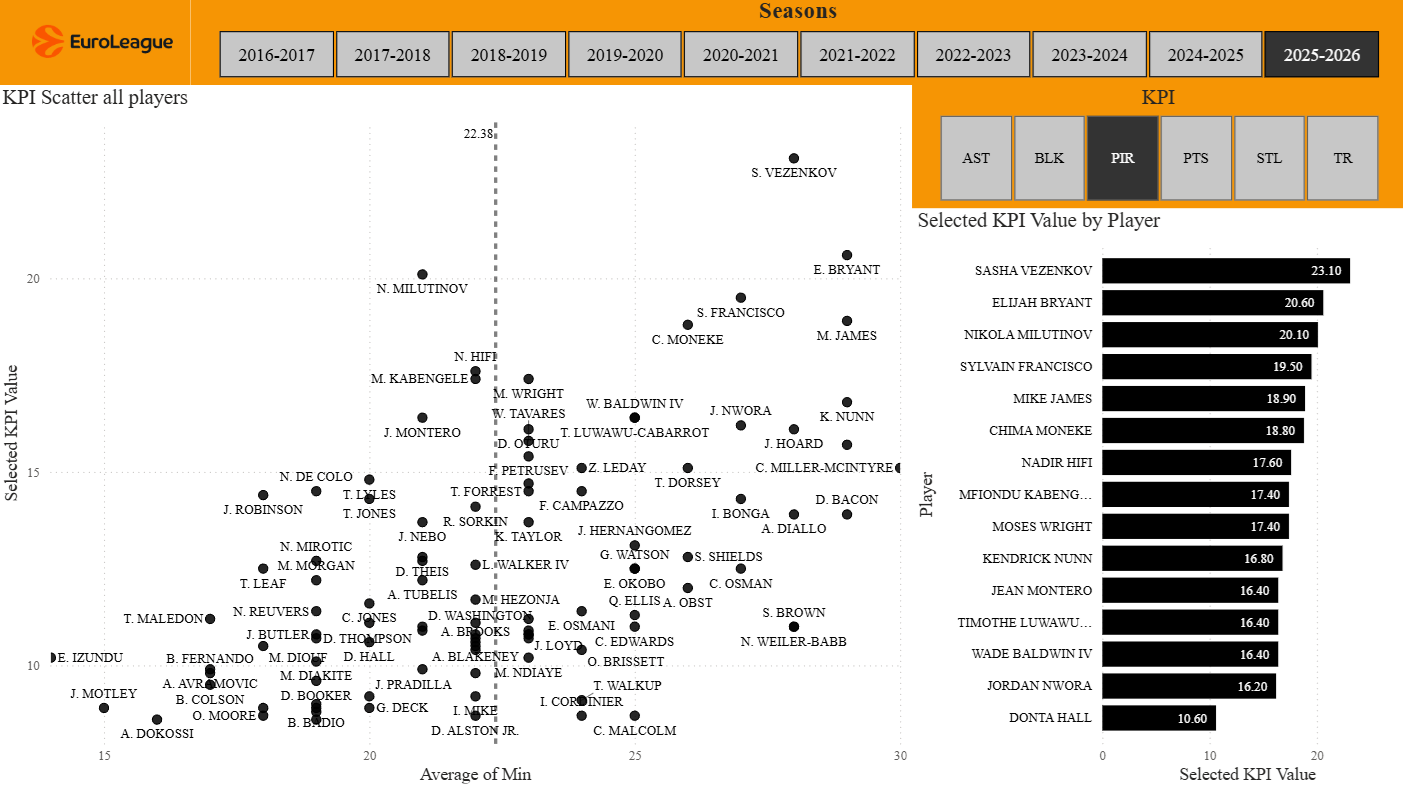

What the dashboard file says about the page in this screenshot:
{"tool":"powerbi","page":{"name":"Players stats/League context","canvas":[1280,720],"ordinal":4},"visuals":[{"type":"scatterChart","title":"KPI Scatter all players","fields":{"X":["Append_stats_traditional.Min"],"Category":["Append_stats_traditional.Player"],"Y":["Measures (2).Selected KPI Value"]},"box":[0,80,832,640],"z":0},{"type":"slicer","title":"Seasons","fields":{"Values":["Seasons Dimension.Seasons"]},"box":[176,0,1104,80],"z":1000},{"type":"shape","box":[0,0,176,80],"z":2000},{"type":"image","box":[32,16,128,48],"z":3000},{"type":"clusteredBarChart","fields":{"Category":["dimension-players-names-formatted.Player"],"Y":["Measures (2).Selected KPI Value"]},"box":[832,192,448,528],"z":4000},{"type":"slicer","title":"KPI","fields":{"Values":["KPI Selector.KPI"]},"box":[832,80,448,112],"z":5000}]}

Visuals, with their boxes in screenshot pixels (x1, y1, x2, y2), scaled from the page's 1280x720 canvas onto the 1403x786 screenshot:
"KPI Scatter all players" scatterChart: locate(0, 87, 912, 785)
"Seasons" slicer: locate(193, 0, 1402, 87)
shape: locate(0, 0, 193, 87)
image: locate(35, 17, 175, 70)
clusteredBarChart - dimension-players-names-formatted.Player x Measures (2).Selected KPI Value: locate(912, 210, 1402, 785)
"KPI" slicer: locate(912, 87, 1402, 210)
